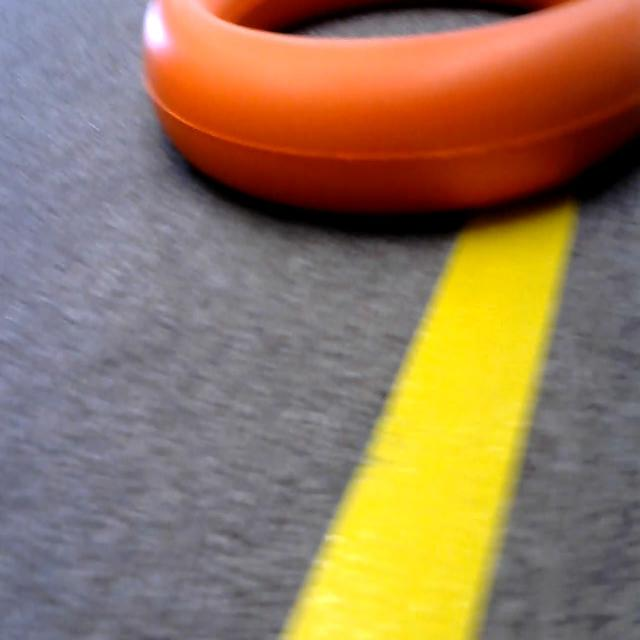note: (130, 0, 640, 227)
